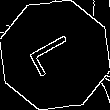L_NE: (25, 29, 85, 81)
